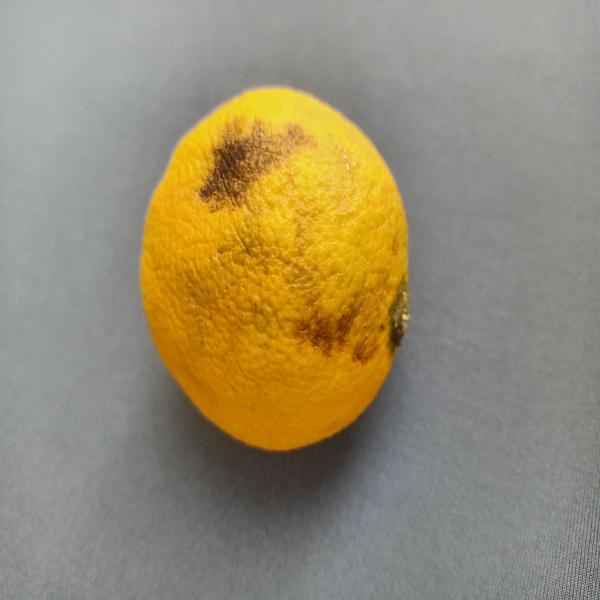Scab: (126, 54, 427, 456)
